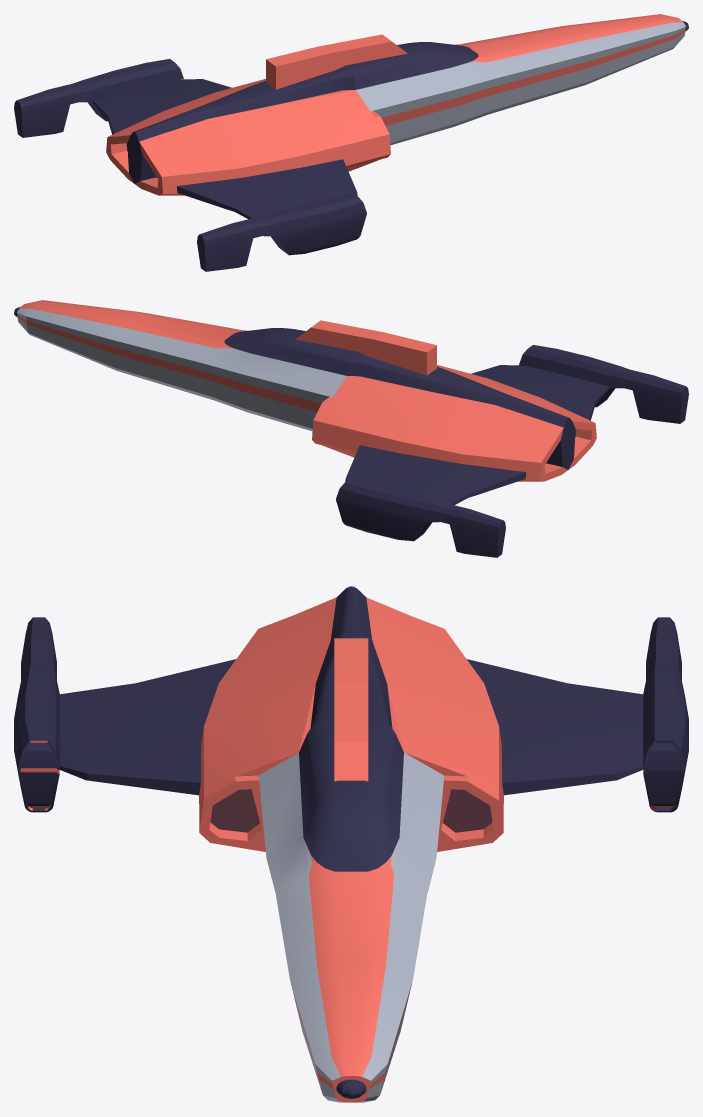
Rendered from spaceship_4.fbx.
3 renders of one model, top to bottom at view 1: azimuth 30°, elevation 25°; view 2: azimuth 150°, elevation 25°; view 3: azimuth 270°, elevation 25°, orthographic. The views are drawn at different scales.
Visible parts, largest first — view 1: Cube.004; view 2: Cube.004; view 3: Cube.004.
Boxes of the visible parts, x1,y1,x2,y2 form: Cube.004: (14, 14, 688, 271); Cube.004: (14, 300, 688, 557); Cube.004: (14, 586, 688, 1102).
Bounding box in the file's own units: 1683 × 297 × 996.
